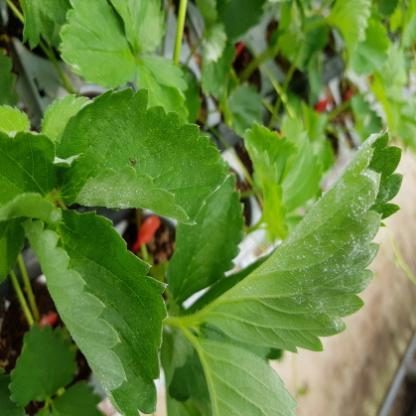Strawberry_Powdery_Mildew_Leaf: (178, 129, 405, 354), (53, 86, 231, 225), (57, 0, 136, 88)
